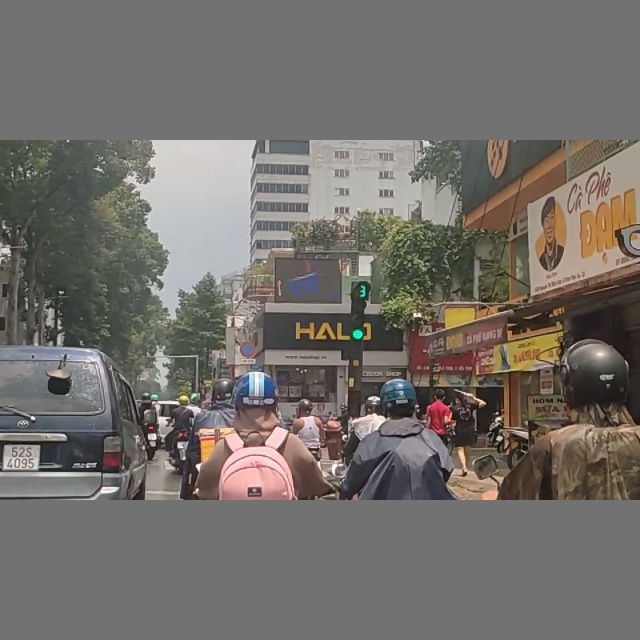P.131a: (238, 341, 258, 359)
